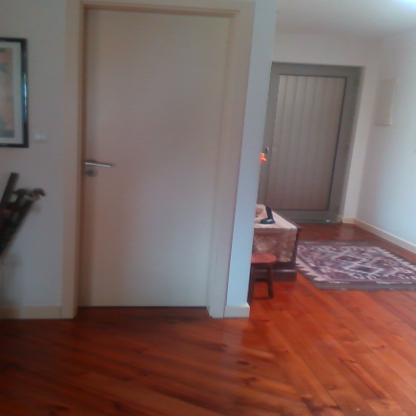door: (80, 7, 215, 310), (266, 62, 339, 226)
hinged: (345, 144, 350, 154), (356, 76, 360, 87)
knob: (264, 146, 270, 153)
lever: (84, 156, 113, 170)
